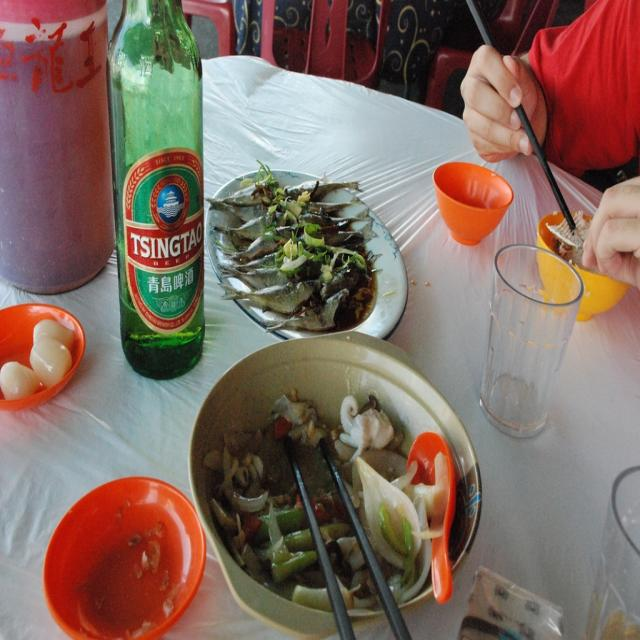tsingtao: (122, 146, 206, 334)
